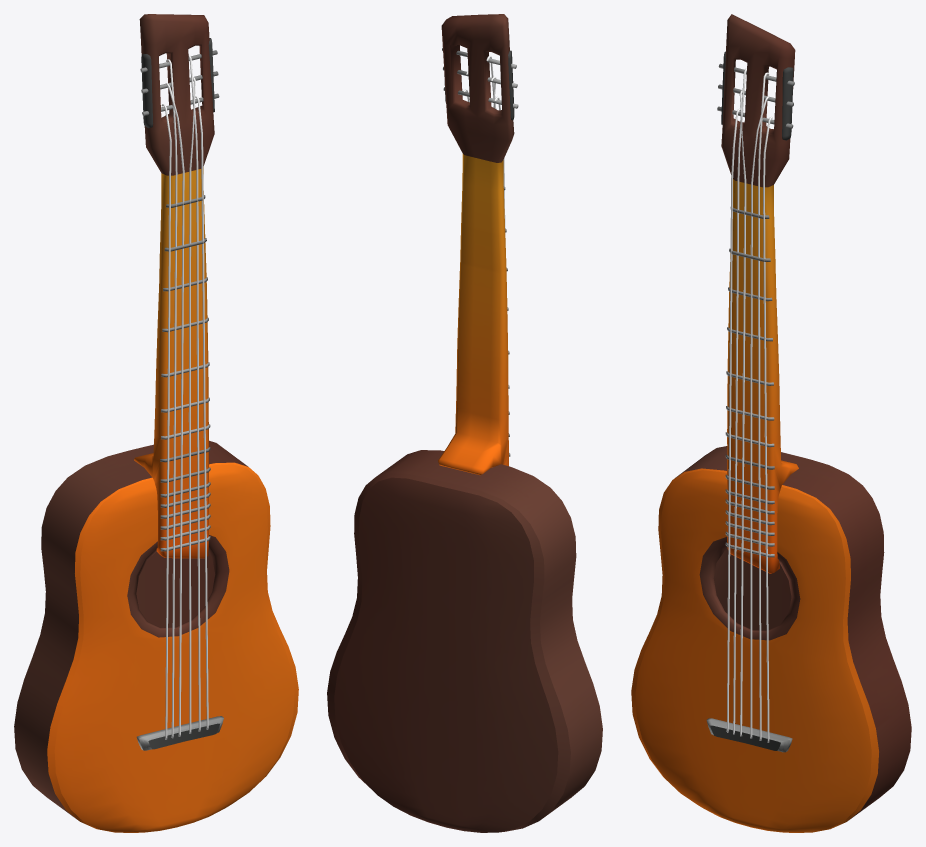
The model's file is Guitar.fbx.
3 views of the same model, side by side, from view 1: azimuth 30°, elevation 25°; view 2: azimuth 150°, elevation 25°; view 3: azimuth 330°, elevation 25° (orthographic). The views are drawn at different scales.
Visible parts, largest first — view 1: Guitar; view 2: Guitar; view 3: Guitar.
Part boxes in pixels (left/top/right/bottom): Guitar: left=14, top=14, right=298, bottom=832; Guitar: left=327, top=14, right=602, bottom=832; Guitar: left=631, top=14, right=911, bottom=832.
Bounding box in the file's own units: 0.4647 × 1.44 × 0.159.
